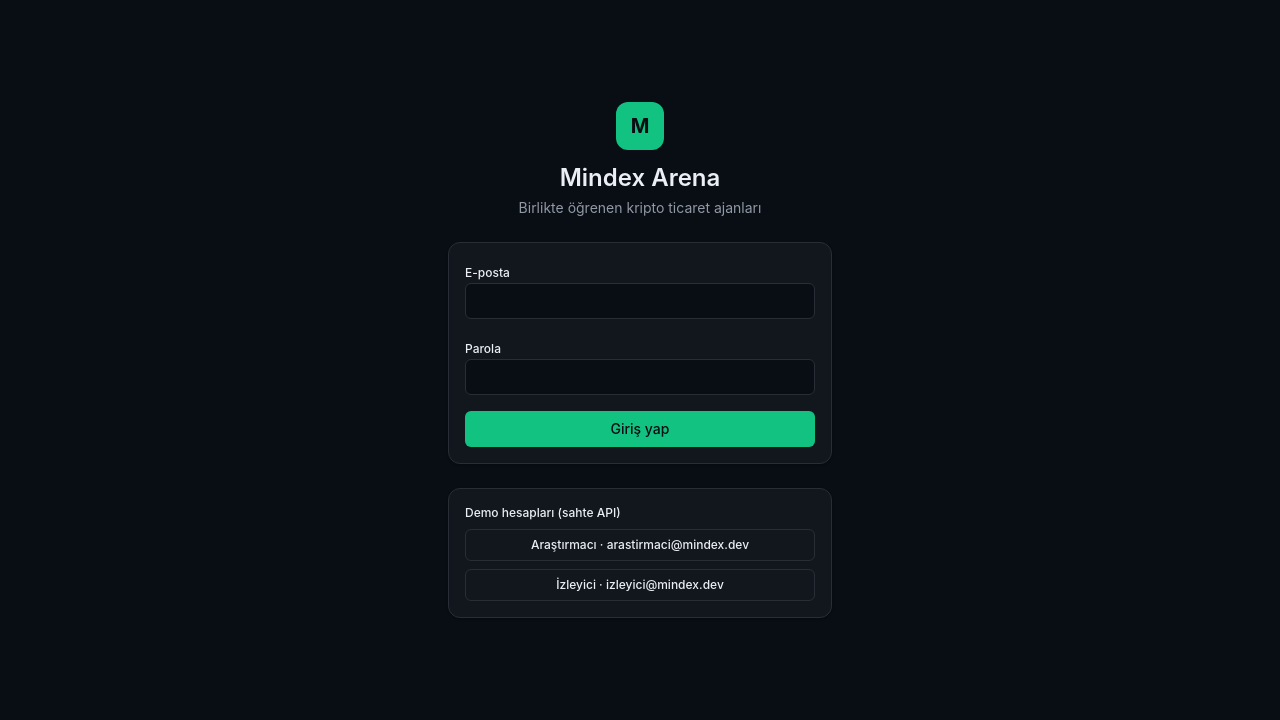
login (F1) › logs in with a demo account and lands on experiments
The width and height of the screenshot is (1280, 720).
Click the button "Araştırmacı · arastirmaci@mindex.dev": click(640, 545) [465,529,815,561]
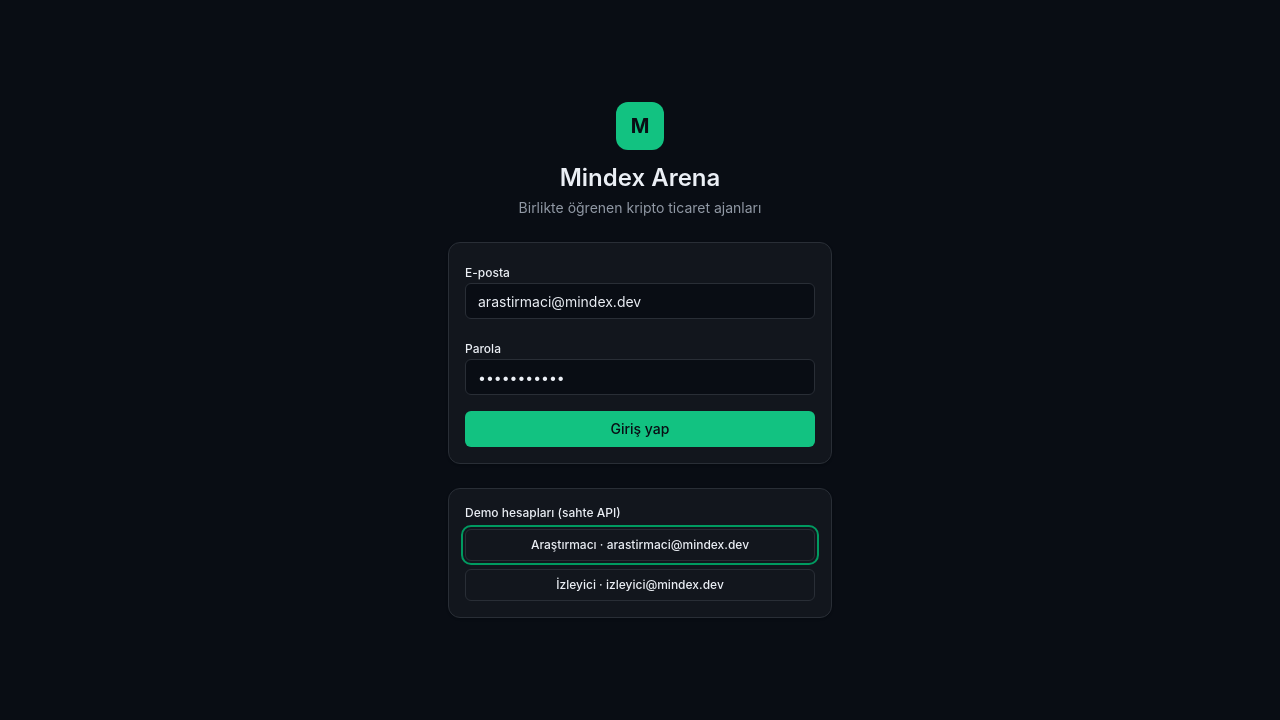
Click the button "Giriş yap": click(640, 429) [465,411,815,447]
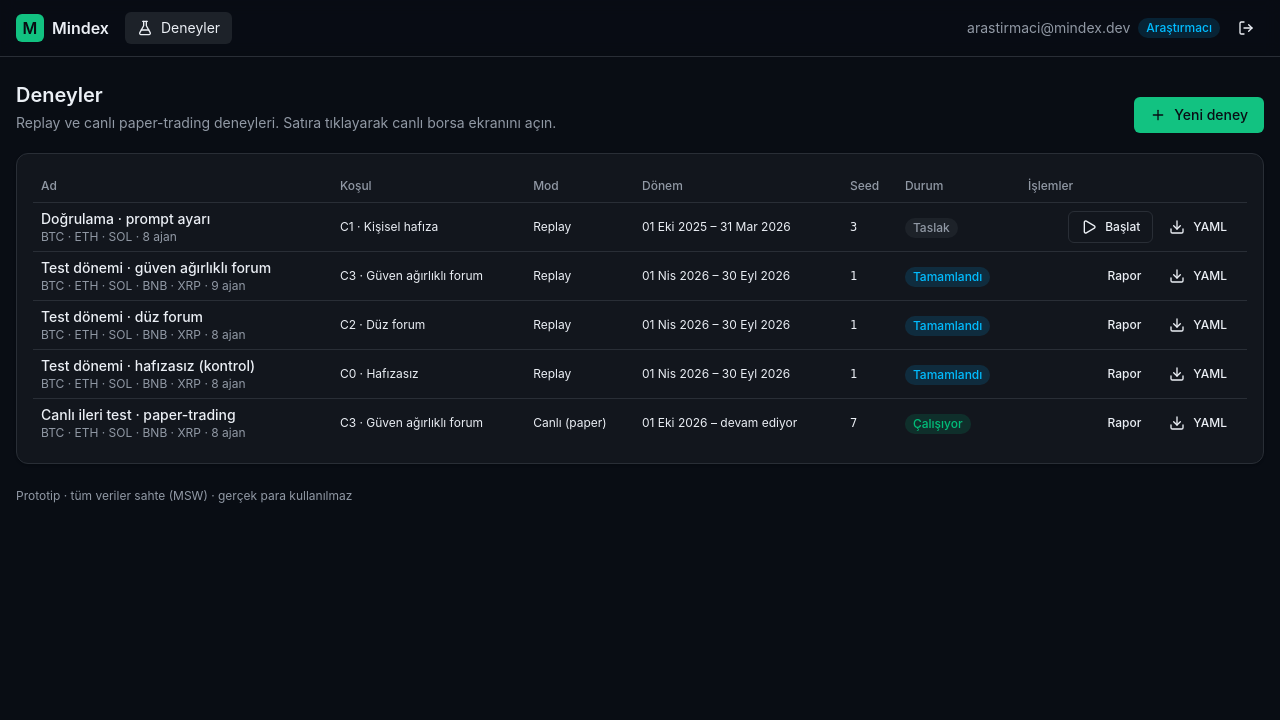
Expected: the link "Test dönemi · güven ağırlıklı forum" is shown, [41,259,271,276]
